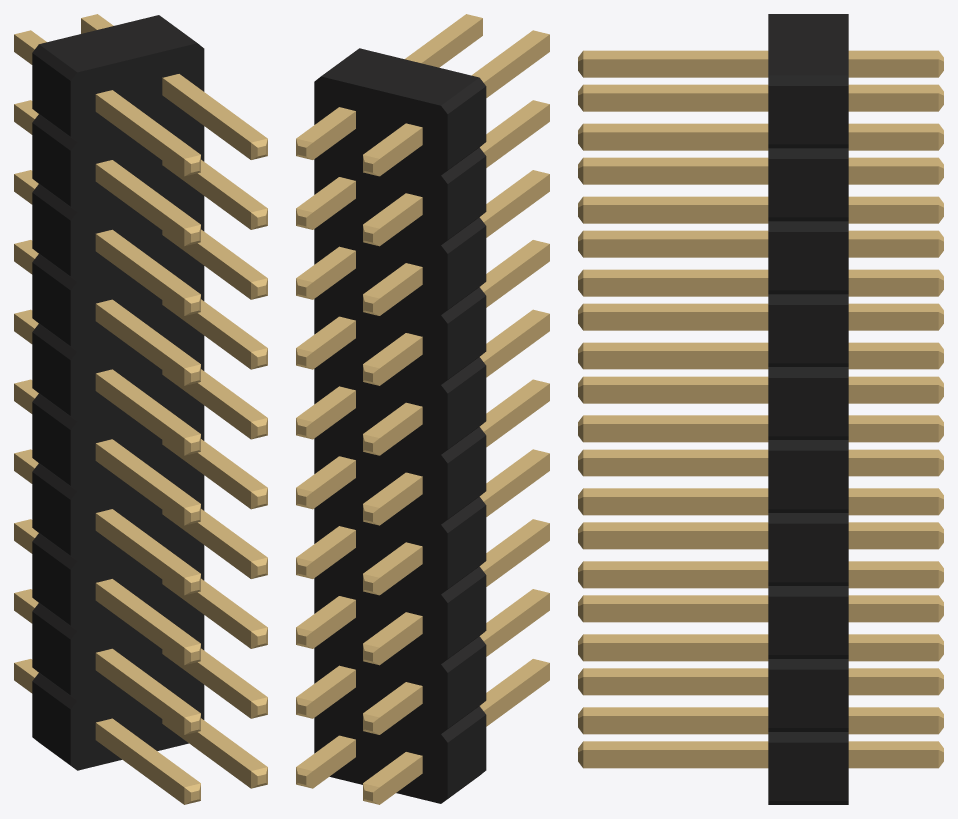
Rendered from header-2x10.glb.
The picture shows the model from 3 angles, left to right: view 1: azimuth 30°, elevation 25°; view 2: azimuth 150°, elevation 25°; view 3: azimuth 270°, elevation 25°; orthographic projection. The views are drawn at different scales.
Visible parts, largest first — view 1: IC-BODY-EPOXY-04, PIN-02; view 2: IC-BODY-EPOXY-04, PIN-02; view 3: PIN-02, IC-BODY-EPOXY-04.
Part boxes in pixels (x1=…): IC-BODY-EPOXY-04: x1=32, y1=15, x2=204, y2=770; PIN-02: x1=14, y1=14, x2=267, y2=804; IC-BODY-EPOXY-04: x1=314, y1=48, x2=486, y2=803; PIN-02: x1=296, y1=14, x2=549, y2=804; PIN-02: x1=578, y1=50, x2=943, y2=768; IC-BODY-EPOXY-04: x1=768, y1=14, x2=848, y2=804.
Size of the model in its own units: 5.08 by 25.4 by 11.54.
